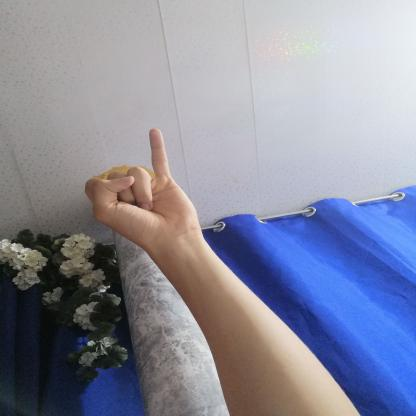MEEM: (70, 120, 204, 253)
